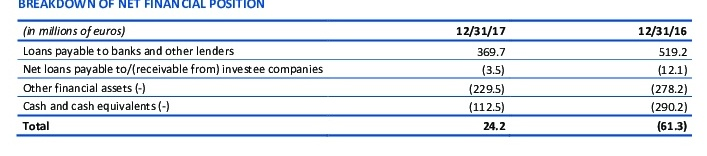table: (0, 0, 707, 156)
